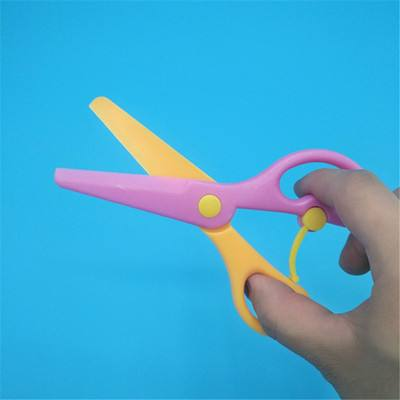scissor: (54, 97, 367, 340)
